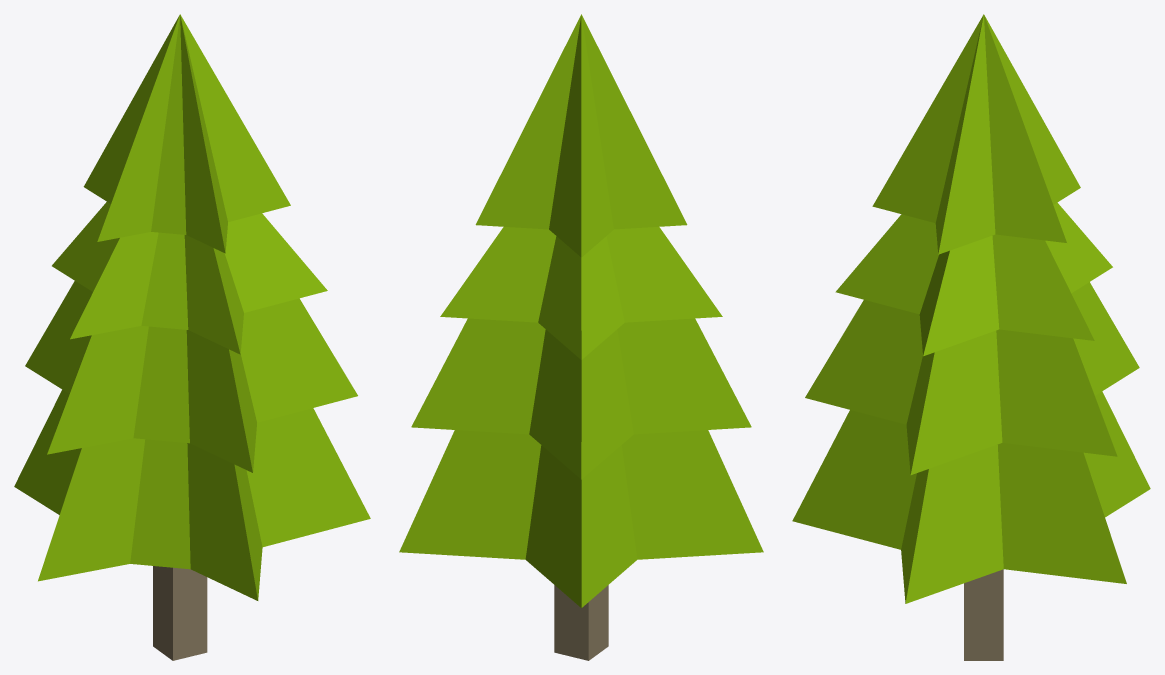
File: tree_pine_star_4.fbx
The picture shows the model from 3 angles, left to right: view 1: azimuth 30°, elevation 25°; view 2: azimuth 150°, elevation 25°; view 3: azimuth 270°, elevation 25°; orthographic projection.
Visible parts, largest first — view 1: tree_pine_star_4; view 2: tree_pine_star_4; view 3: tree_pine_star_4.
Part boxes in pixels (left/top/right/bottom): tree_pine_star_4: left=14, top=14, right=370, bottom=660; tree_pine_star_4: left=399, top=14, right=763, bottom=660; tree_pine_star_4: left=792, top=14, right=1150, bottom=660.
Bounding box in the file's own units: 113 × 218 × 111.
